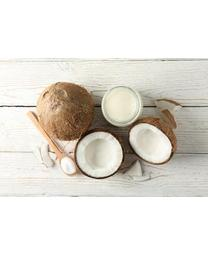coconut: (35, 78, 95, 142), (128, 116, 178, 168), (73, 130, 122, 180)
